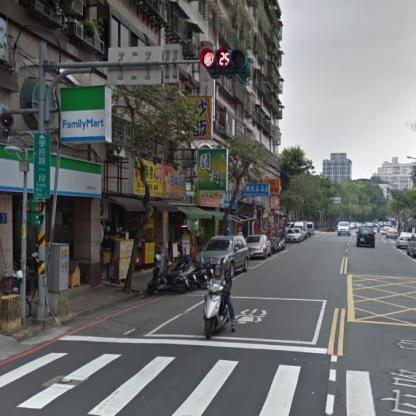Red Light: (196, 46, 248, 74)
